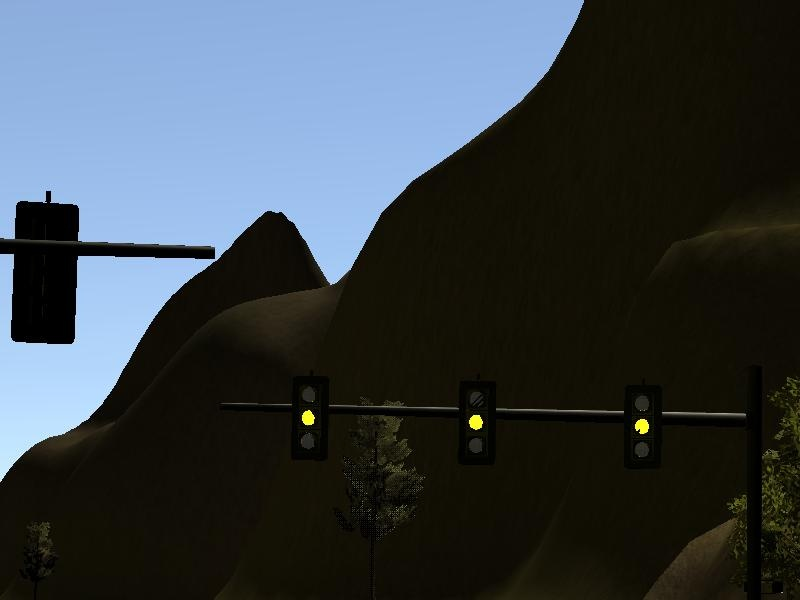yellow: (459, 379, 501, 475), (625, 385, 661, 477), (293, 376, 327, 464)
